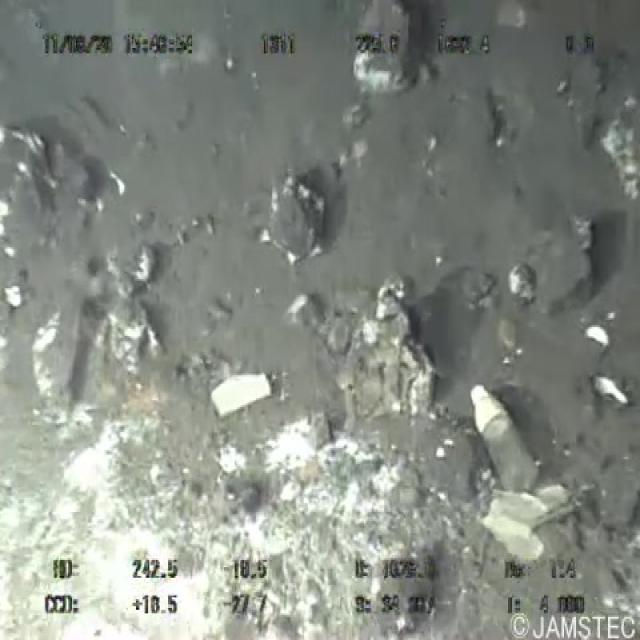plastic: (463, 372, 541, 502)
